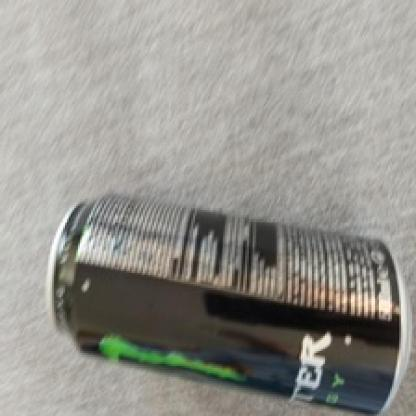Can: (43, 198, 411, 416), (0, 0, 1, 1)
